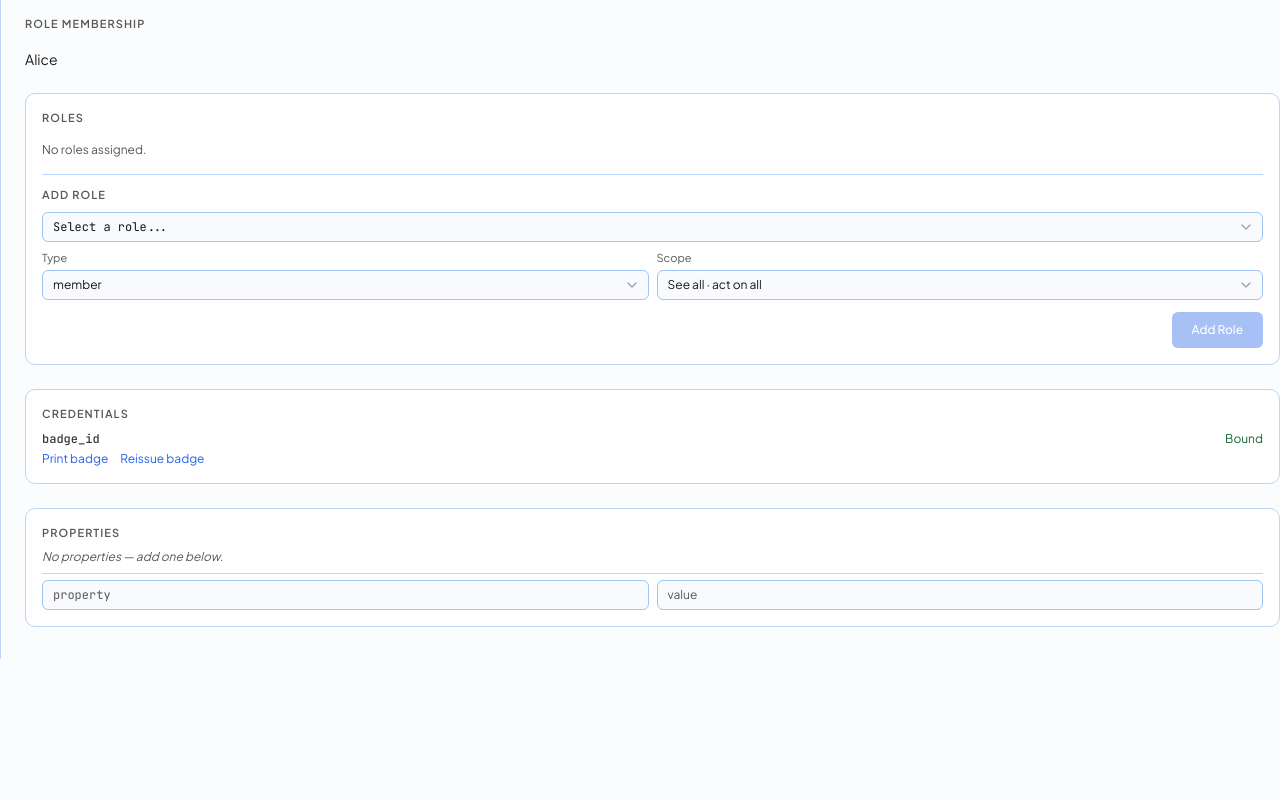
Test case: RolePanel — badge actions › Keep closes the confirmation without reissuing
Click the button "Reissue badge": (162, 458) [120, 450, 204, 466]
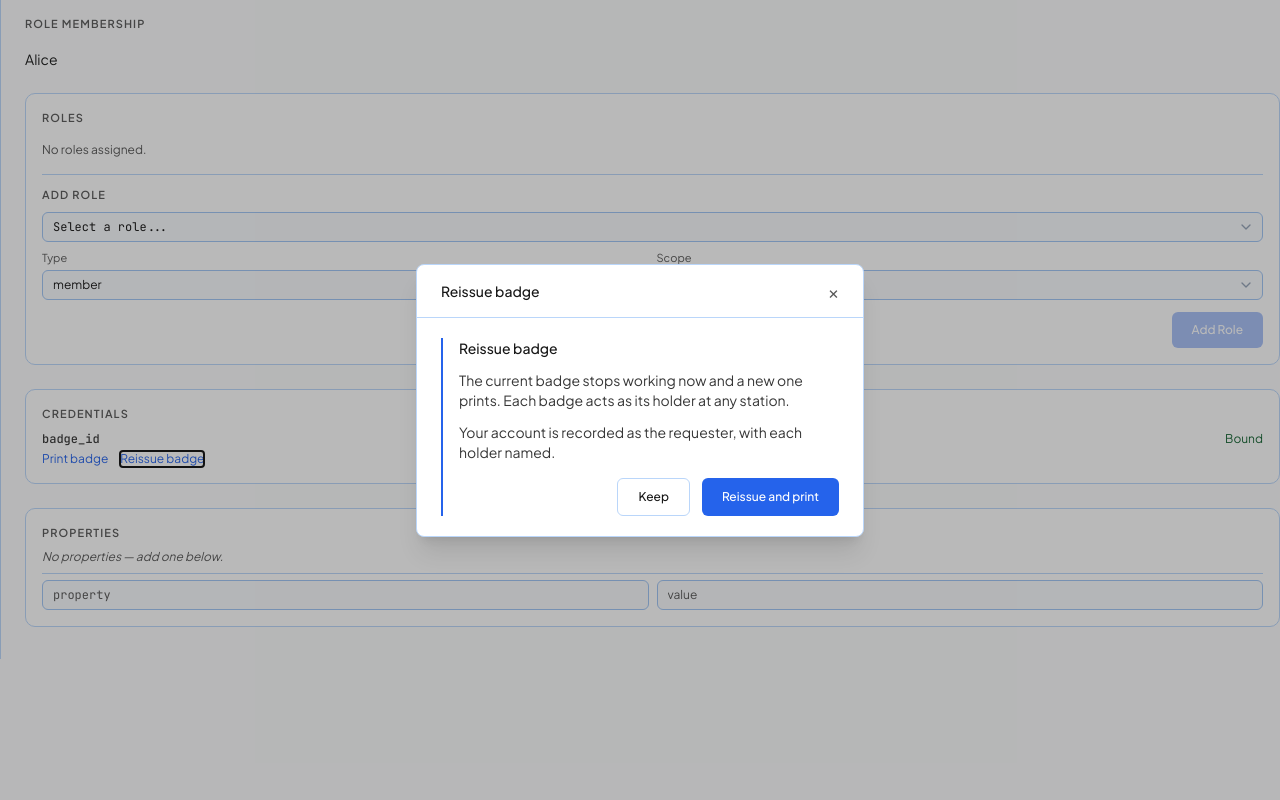
Click the button "Keep": (654, 496) [618, 478, 690, 516]
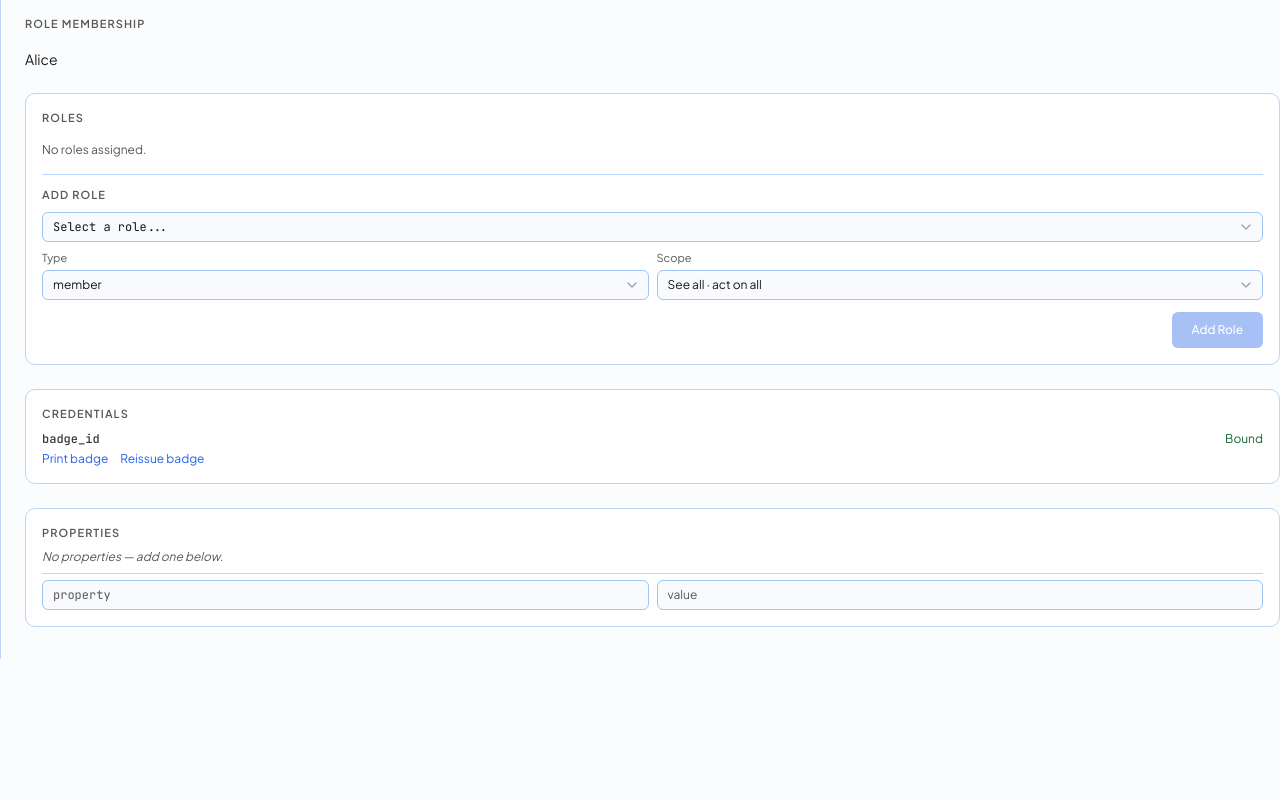
Result: the text "stops working now" is gone
